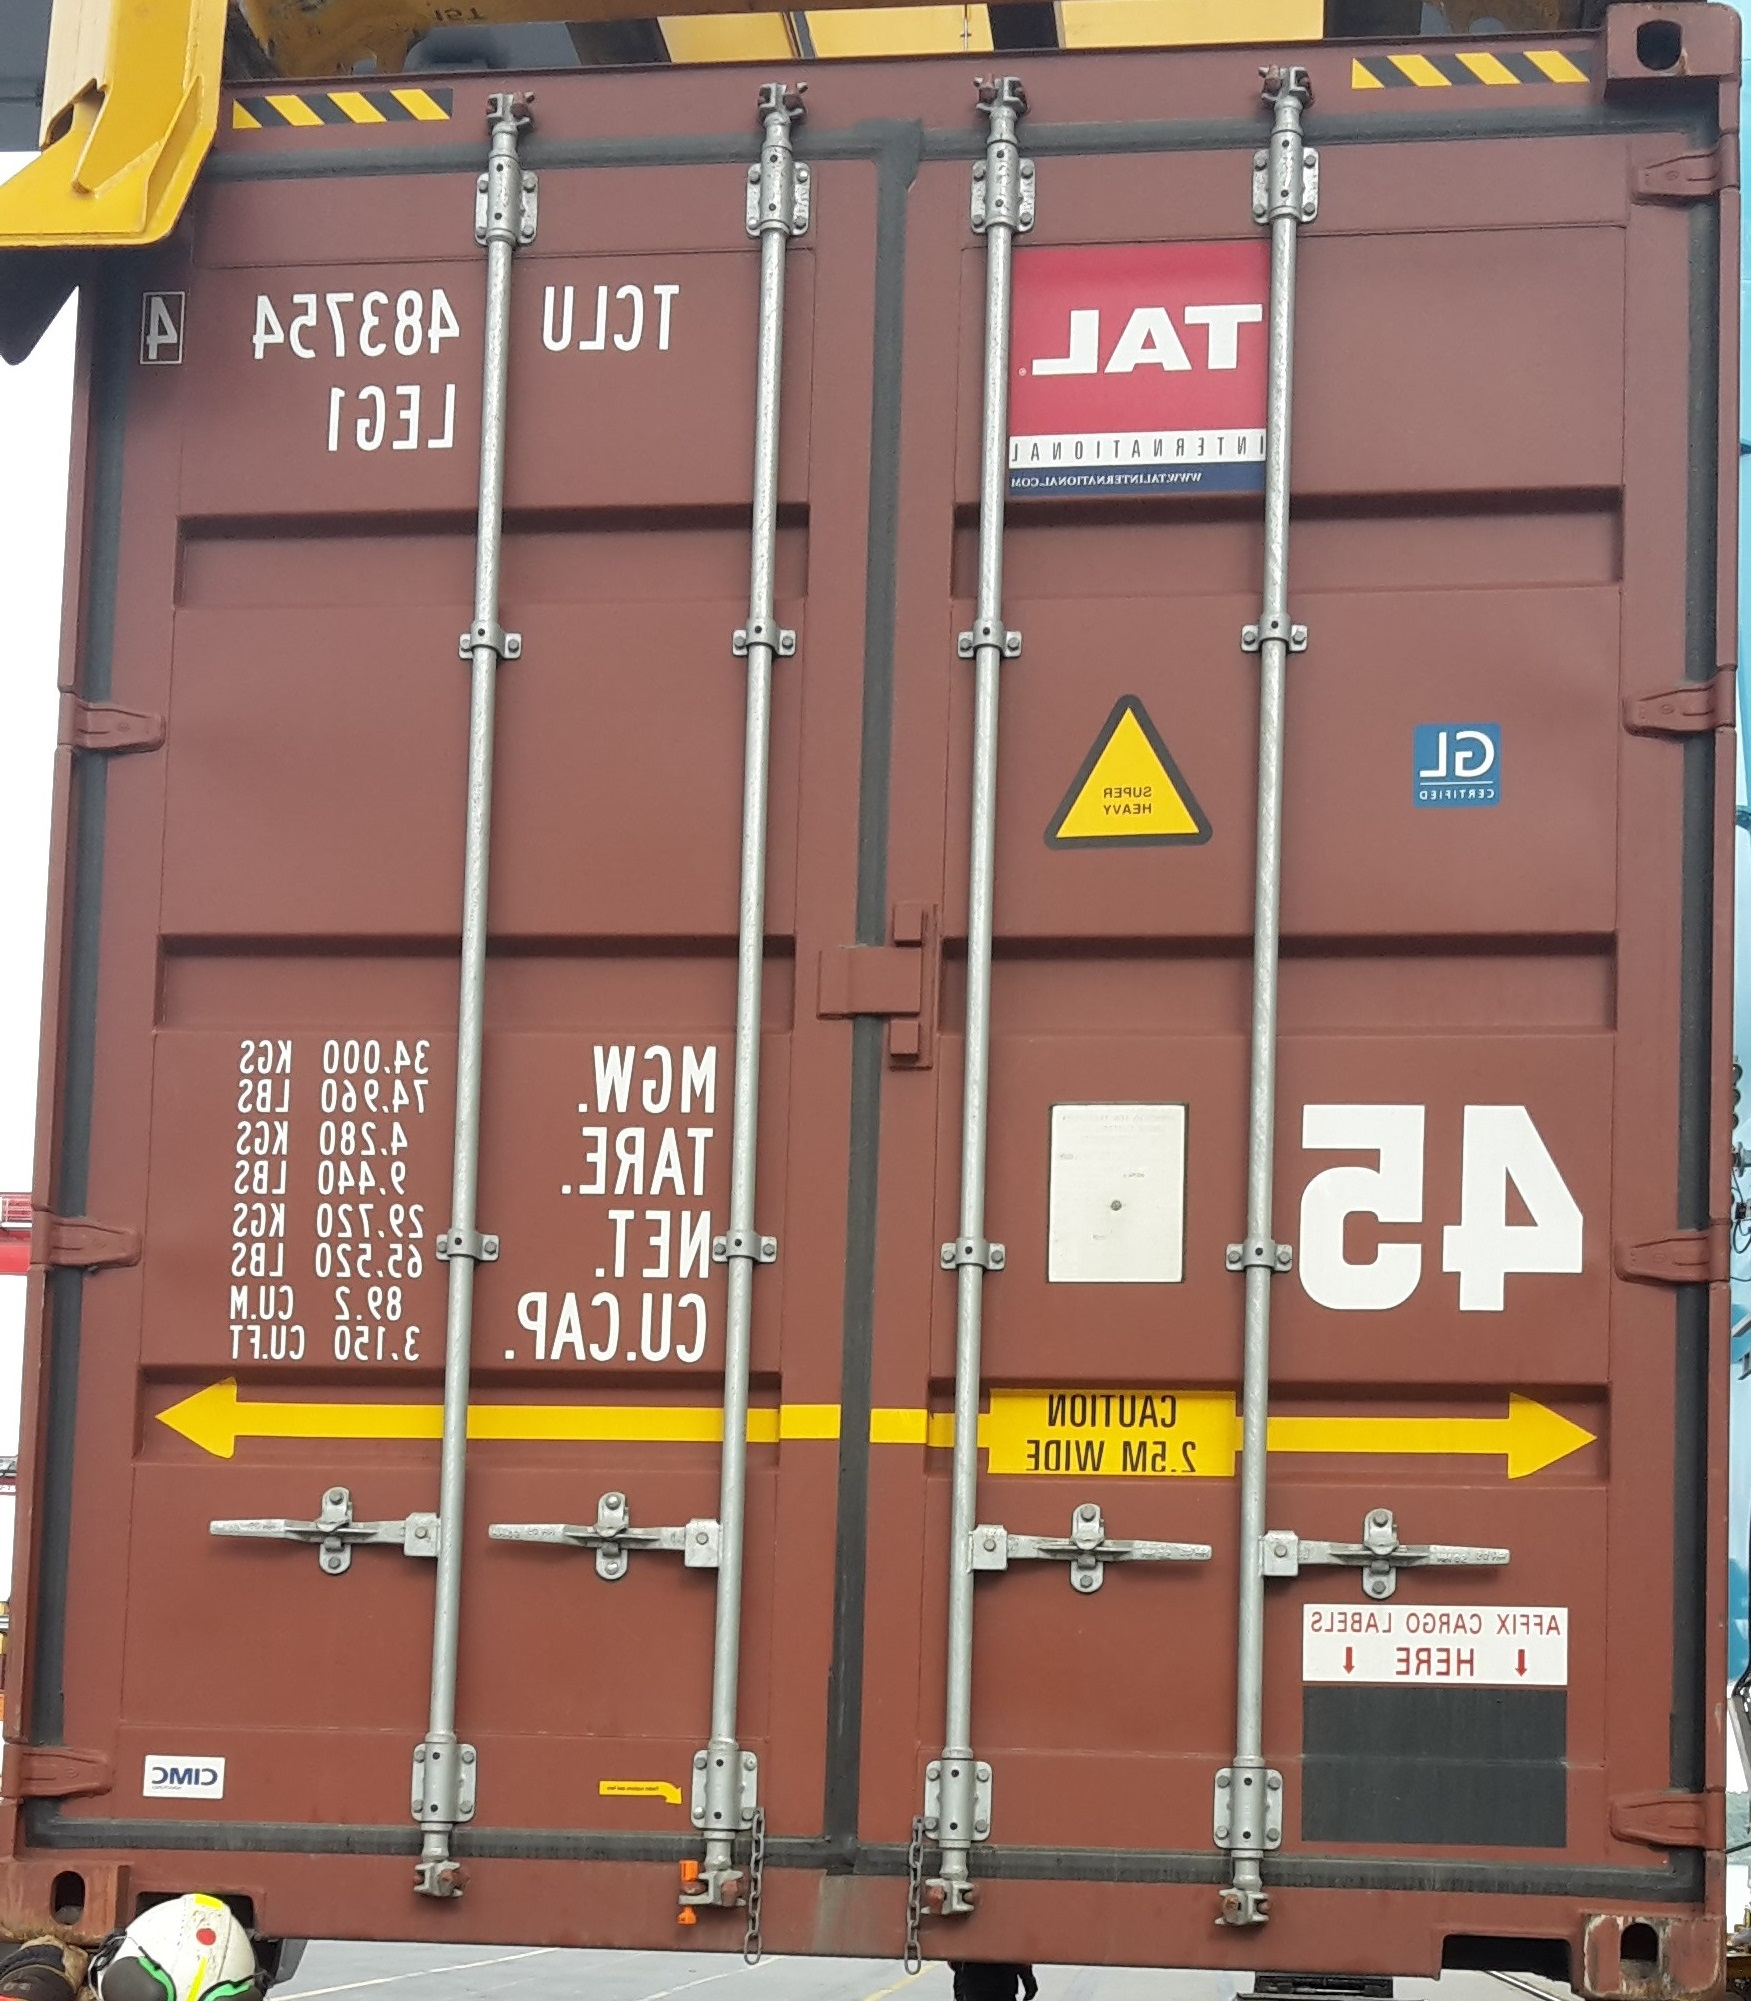container_door: (3, 10, 1732, 1936)
